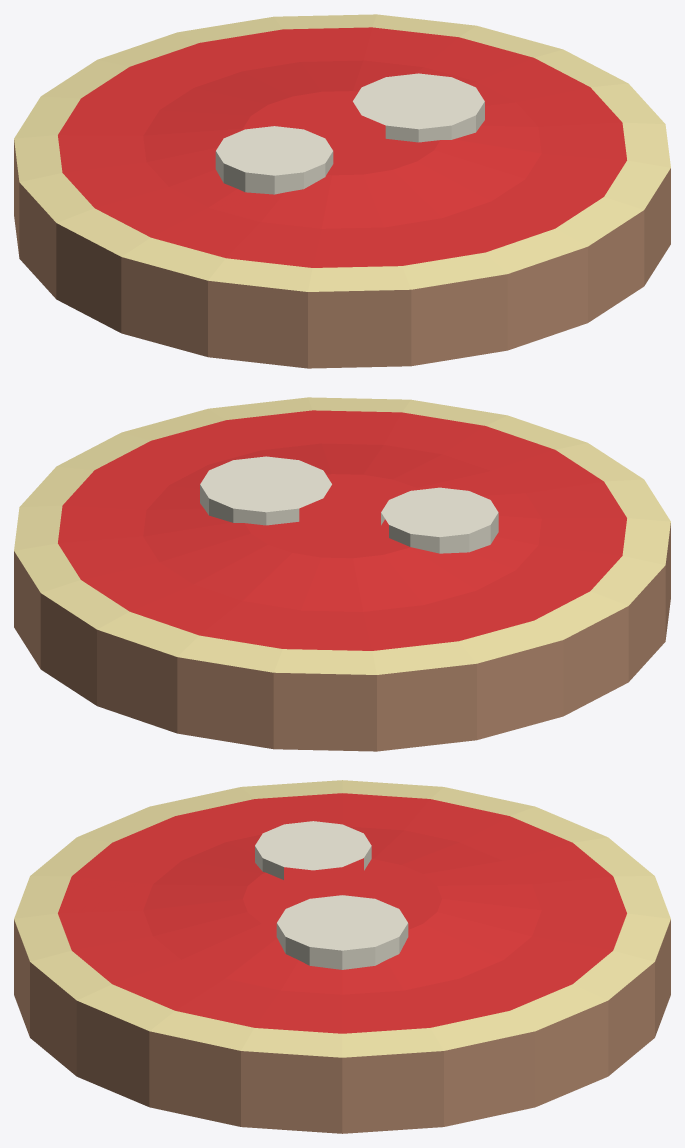
File: cap_elbow.glb
3 views of the same model, one above another, from view 1: azimuth 30°, elevation 25°; view 2: azimuth 150°, elevation 25°; view 3: azimuth 270°, elevation 25° (orthographic).
Visible parts, largest first — view 1: OUT; view 2: OUT; view 3: OUT.
Boxes of the visible parts, left/top/right/bottom form: OUT: left=14, top=14, right=670, bottom=368; OUT: left=14, top=397, right=670, bottom=751; OUT: left=14, top=780, right=670, bottom=1133.
Size of the model in its own units: 0.09 by 0.0165 by 0.09.
